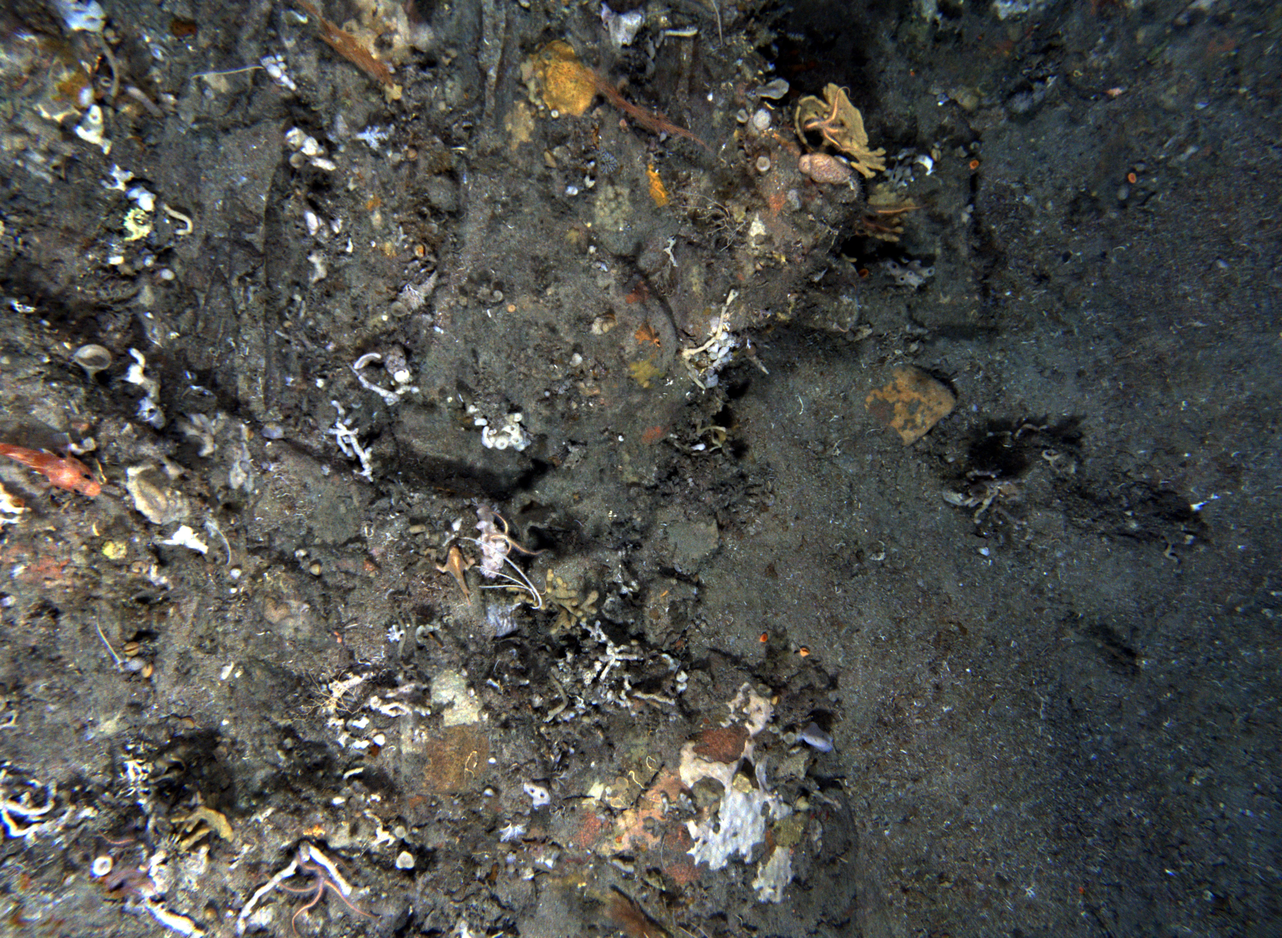Brachionichthyidae: (434, 545, 476, 607)
